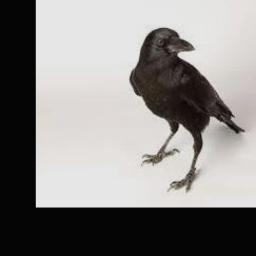Crow: (129, 26, 244, 194)
